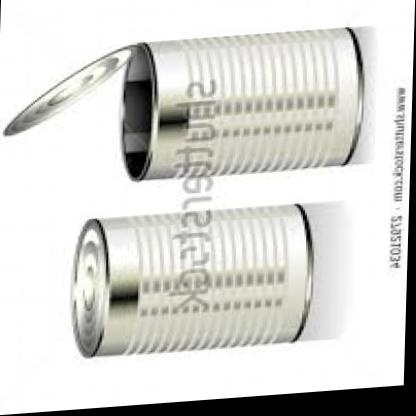trash: (4, 28, 363, 179), (71, 205, 312, 356)
